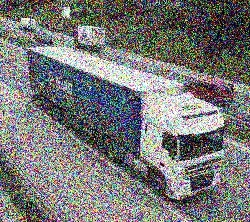truck: (28, 47, 224, 201), (183, 75, 234, 108), (71, 23, 106, 52)
